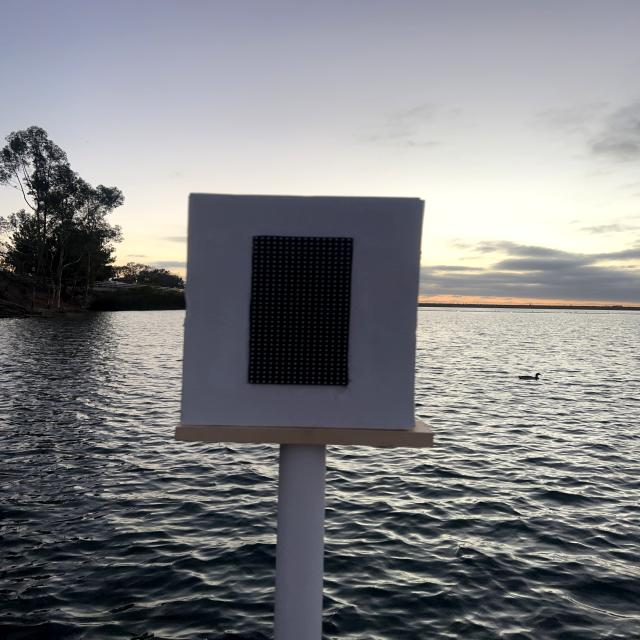led: (214, 205, 387, 420)
